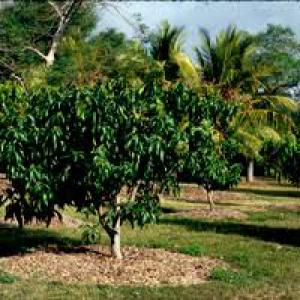Tree: (8, 76, 230, 255)
